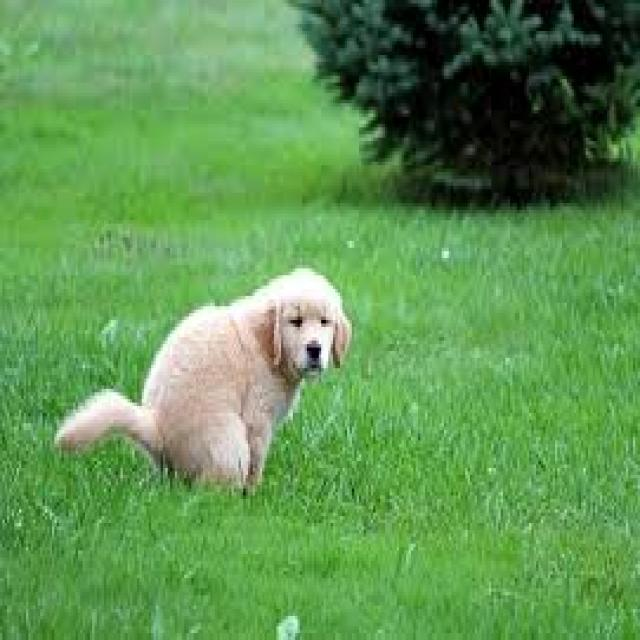Dogpoop: (50, 263, 353, 499)
